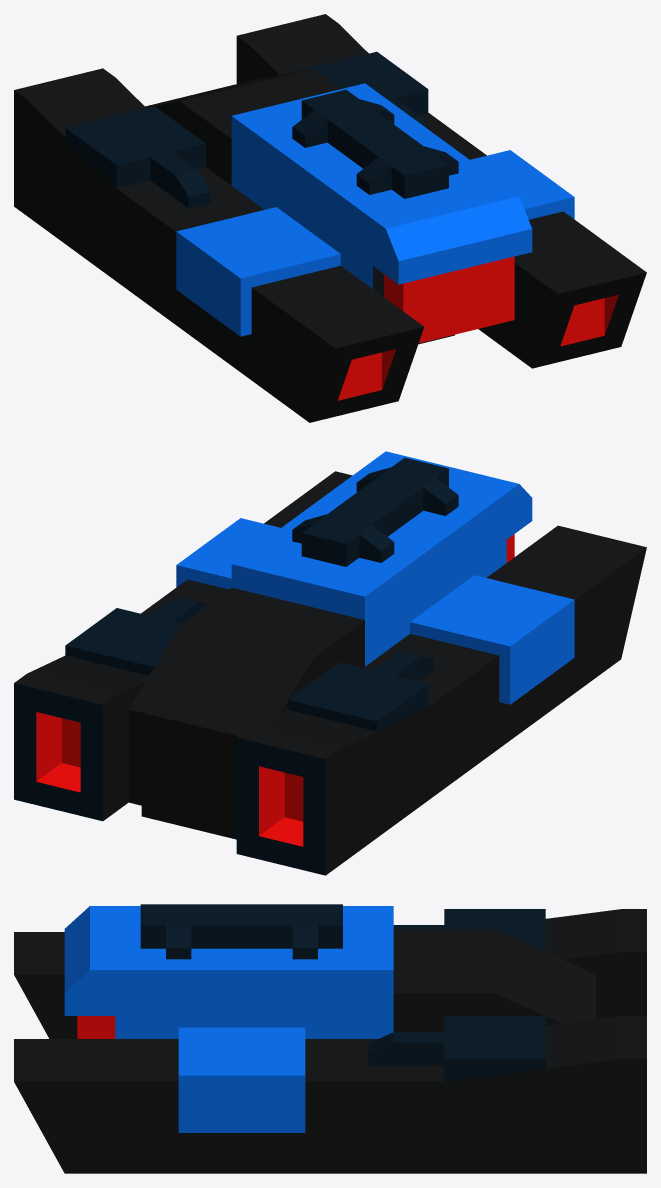
Rendered from craft_cargoB.obj.
The picture shows the model from 3 angles, top to bottom: view 1: azimuth 30°, elevation 25°; view 2: azimuth 150°, elevation 25°; view 3: azimuth 270°, elevation 25°; orthographic projection.
Visible parts, largest first — view 1: craft_cargoB; view 2: craft_cargoB; view 3: craft_cargoB.
Boxes of the visible parts, bbox=[...] form: craft_cargoB: bbox=[14, 14, 646, 422]; craft_cargoB: bbox=[14, 451, 646, 875]; craft_cargoB: bbox=[14, 904, 646, 1173].
Bounding box in the file's own units: 1.5 × 0.9 × 2.5.
